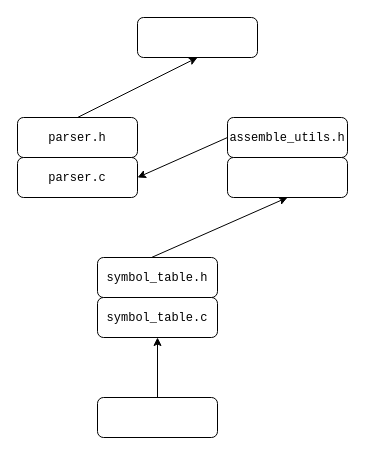
Image size: 365x455. Some labels were removed from this diagram. Here are the shapes that lost their labels. From the top down, the centre of each, then its label:
the point at 197,37: assemble.c
the point at 287,177: assemble_utils.c
the point at 157,417: definitions.h
